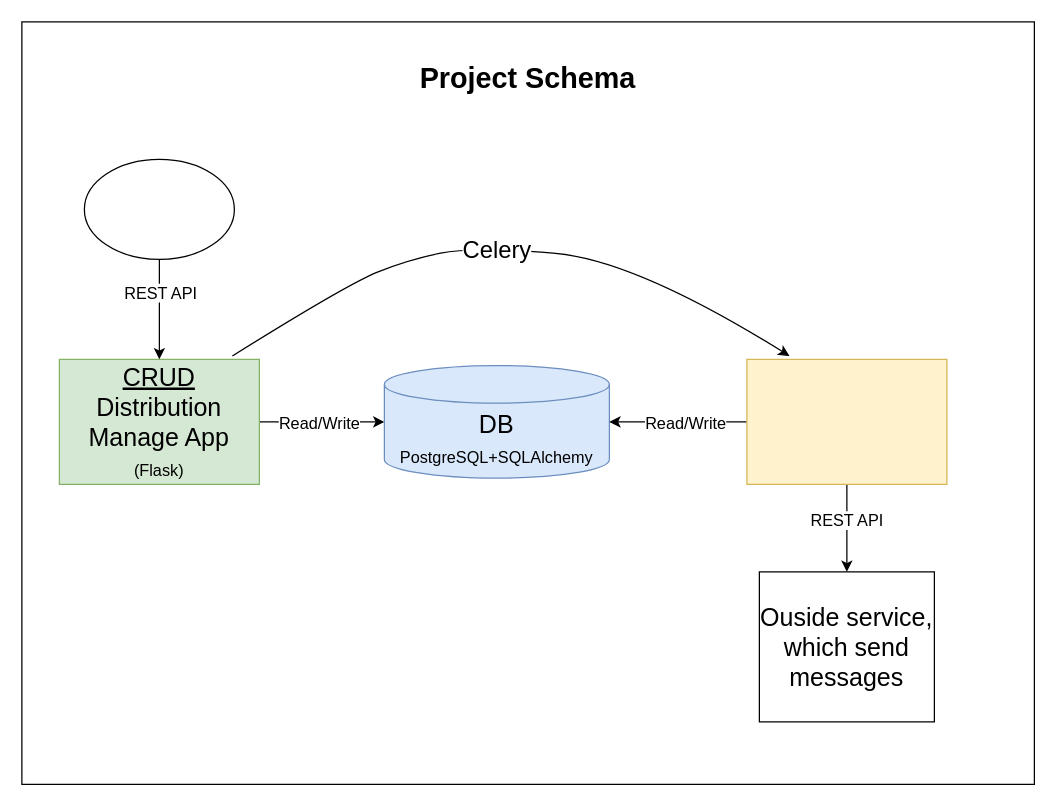
This 1056x806 diagram has some shape labels left out. Here are the shapes that lost their labels. From the top down, the centre of each, then its label:
point (158, 208): Admin
point (846, 421): RU Distribution Maker App
